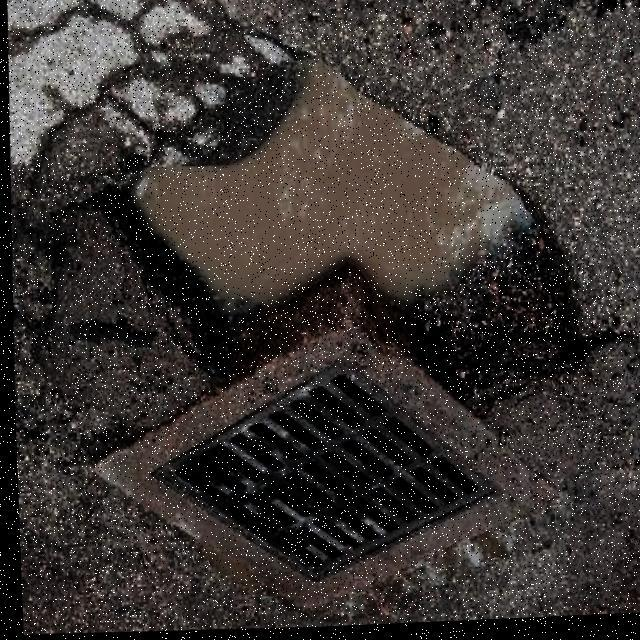pothole: (80, 30, 622, 445)
